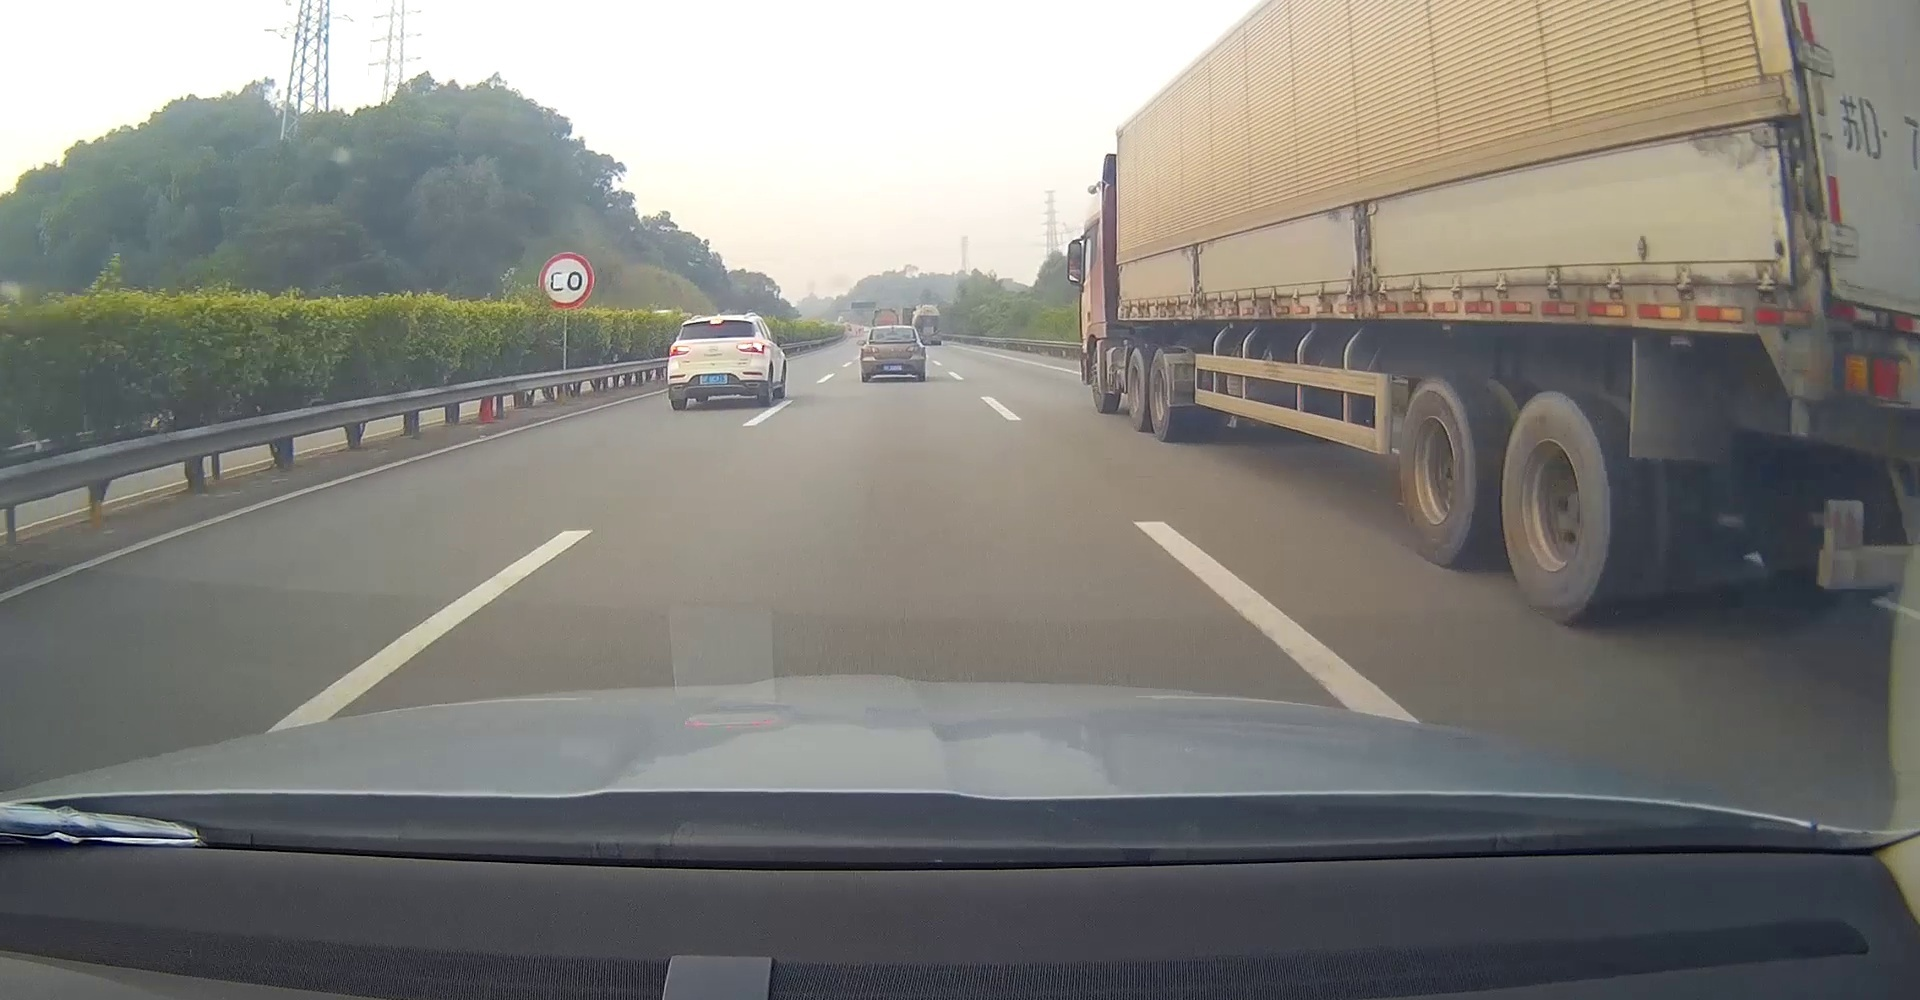L_light: (669, 345, 690, 357), (862, 346, 879, 353)
R_light: (737, 341, 764, 354), (905, 344, 924, 352)
T_light: (709, 319, 723, 324), (888, 327, 898, 331)
day-brake: (665, 313, 767, 410)
day-no: (860, 325, 926, 382)
